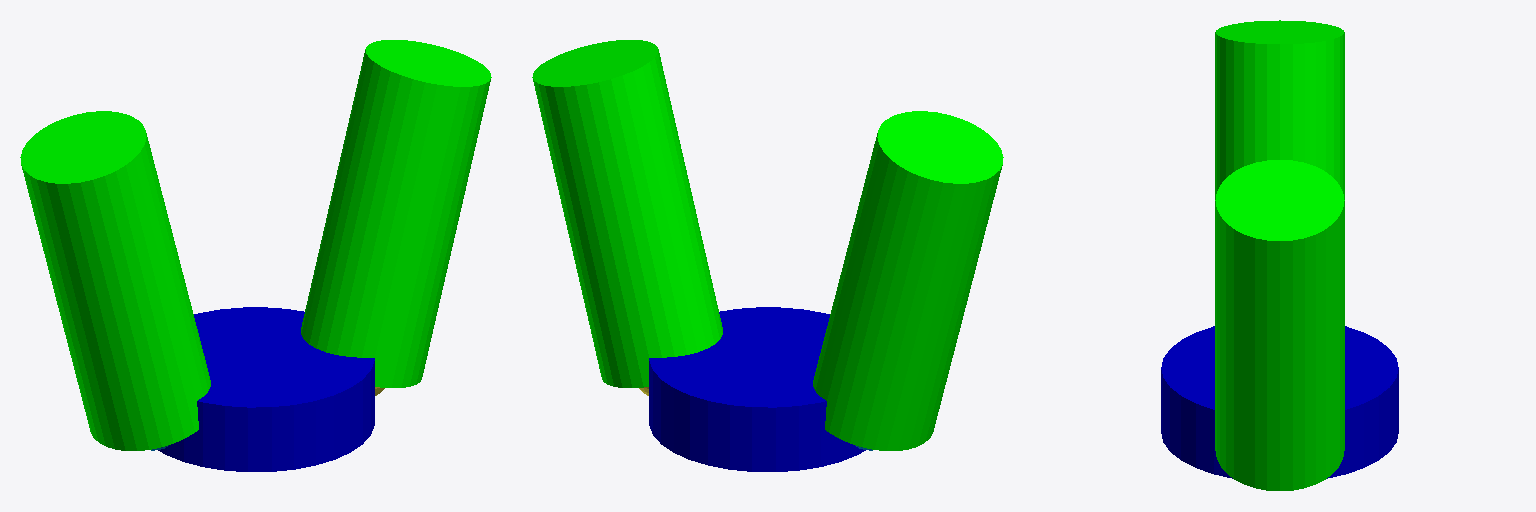
robot.urdf — gripper_2f_1j:
<?xml version='1.0' encoding='UTF-8'?>
<robot name="gripper_2f_1j">
  <link name="palm">
    <inertial>
      <origin xyz="0.0 0.0 0.0" rpy="0.0 -0.0 0.0"/>
      <mass value="1.0"/>
      <inertia ixx="1.0" ixy="0.0" ixz="0.0" iyy="1.0" iyz="0.0" izz="1.0"/>
    </inertial>
    <visual>
      <geometry>
        <cylinder radius="0.05" length="0.03"/>
      </geometry>
      <material name="blue"/>
      <origin xyz="0.0 0.0 0.0" rpy="0.0 -0.0 0.0"/>
    </visual>
    <collision>
      <geometry>
        <cylinder radius="0.05" length="0.03"/>
      </geometry>
      <origin xyz="0.0 0.0 0.0" rpy="0.0 0.0 0.0"/>
    </collision>
  </link>
  <link name="f11">
    <inertial>
      <origin xyz="0.0 0.0 0.0" rpy="0.0 -0.0 0.0"/>
      <mass value="1.0"/>
      <inertia ixx="1.0" ixy="0.0" ixz="0.0" iyy="1.0" iyz="0.0" izz="1.0"/>
    </inertial>
    <visual>
      <geometry>
        <cylinder radius="0.027148552482769362" length="0.13602427519945354"/>
      </geometry>
      <material name="green"/>
      <origin xyz="0.0 0.0 0.06801213759972677" rpy="0.0 -0.0 0.0"/>
    </visual>
    <collision>
      <geometry>
        <cylinder radius="0.027148552482769362" length="0.13602427519945354"/>
      </geometry>
      <origin xyz="0.0 0.0 0.05" rpy="0.0 0.0 0.0"/>
    </collision>
  </link>
  <link name="f21">
    <inertial>
      <origin xyz="0.0 0.0 0.0" rpy="0.0 -0.0 0.0"/>
      <mass value="1.0"/>
      <inertia ixx="1.0" ixy="0.0" ixz="0.0" iyy="1.0" iyz="0.0" izz="1.0"/>
    </inertial>
    <visual>
      <geometry>
        <cylinder radius="0.027148552482769362" length="0.13602427519945354"/>
      </geometry>
      <material name="green"/>
      <origin xyz="0.0 0.0 0.06801213759972677" rpy="0.0 -0.0 0.0"/>
    </visual>
    <collision>
      <geometry>
        <cylinder radius="0.027148552482769362" length="0.13602427519945354"/>
      </geometry>
      <origin xyz="0.0 0.0 0.05" rpy="0.0 0.0 0.0"/>
    </collision>
  </link>
  <link name="f11_base">
    <inertial>
      <origin xyz="0.0 0.0 0.0" rpy="0.0 -0.0 0.0"/>
      <mass value="1.0"/>
      <inertia ixx="1.0" ixy="0.0" ixz="0.0" iyy="1.0" iyz="0.0" izz="1.0"/>
    </inertial>
    <visual>
      <geometry>
        <sphere radius="0.015"/>
      </geometry>
      <origin xyz="0.0 0.0 0.0" rpy="0.0 -0.0 0.0"/>
    </visual>
  </link>
  <link name="f21_base">
    <inertial>
      <origin xyz="0.0 0.0 0.0" rpy="0.0 -0.0 0.0"/>
      <mass value="1.0"/>
      <inertia ixx="1.0" ixy="0.0" ixz="0.0" iyy="1.0" iyz="0.0" izz="1.0"/>
    </inertial>
    <visual>
      <geometry>
        <sphere radius="0.015"/>
      </geometry>
      <origin xyz="0.0 0.0 0.0" rpy="0.0 -0.0 0.0"/>
    </visual>
  </link>
  <joint name="f11_joint" type="revolute">
    <dynamics damping="100.0" friction="1.0"/>
    <limit effort="30.0" velocity="2.0" lower="-0.6" upper="0.25"/>
    <parent link="f11_base"/>
    <child link="f11"/>
    <axis xyz="0. 1. 0."/>
    <origin xyz="0.0 0.0 0.0" rpy="0.0 0.25 0.0"/>
  </joint>
  <joint name="f21_joint" type="revolute">
    <dynamics damping="100.0" friction="1.0"/>
    <limit effort="30.0" velocity="2.0" lower="-0.6" upper="0.25"/>
    <parent link="f21_base"/>
    <child link="f21"/>
    <axis xyz=" 0. -1.  0."/>
    <origin xyz="0.0 0.0 0.0" rpy="0.0 -0.25 0.0"/>
  </joint>
  <joint name="f11_base_joint" type="fixed">
    <parent link="palm"/>
    <child link="f11_base"/>
    <axis xyz="1. 0. 0."/>
    <origin xyz="0.05 0.0 0.0" rpy="0.0 0.0 0.0"/>
  </joint>
  <joint name="f21_base_joint" type="fixed">
    <parent link="palm"/>
    <child link="f21_base"/>
    <axis xyz="1. 0. 0."/>
    <origin xyz="-0.05 -0.0 0.0" rpy="0.0 0.0 0.0"/>
  </joint>
  <material name="blue">
    <color rgba="0.  0.  0.8 1. "/>
  </material>
  <material name="green">
    <color rgba="0. 1. 0. 1."/>
  </material>
</robot>

--- What the picture shows (computed from the rendered views, not written in the file) ---
The picture shows the robot from 3 angles, left to right: view 1: azimuth 30°, elevation 25°; view 2: azimuth 150°, elevation 25°; view 3: azimuth 270°, elevation 25°; orthographic projection.
Robot: gripper_2f_1j — 5 links, 4 joints (2 revolute, 2 fixed); root link palm; default pose: every joint at zero.
Visible links, largest first — view 1: f21, f11, palm; view 2: f21, f11, palm; view 3: f11, f21, palm.
Boxes of the visible links, <box> form: f21: <box>20,111,210,450</box>; f11: <box>301,40,491,387</box>; palm: <box>158,307,374,471</box>; f21: <box>813,111,1003,450</box>; f11: <box>532,40,722,387</box>; palm: <box>649,307,865,471</box>; f11: <box>1215,160,1344,490</box>; f21: <box>1215,20,1344,199</box>; palm: <box>1161,326,1398,478</box>.
Size in the robot's own frame: 0.2199 by 0.1 by 0.1535 metres.
Geometry: primitives only (box / cylinder / sphere), no mesh files.